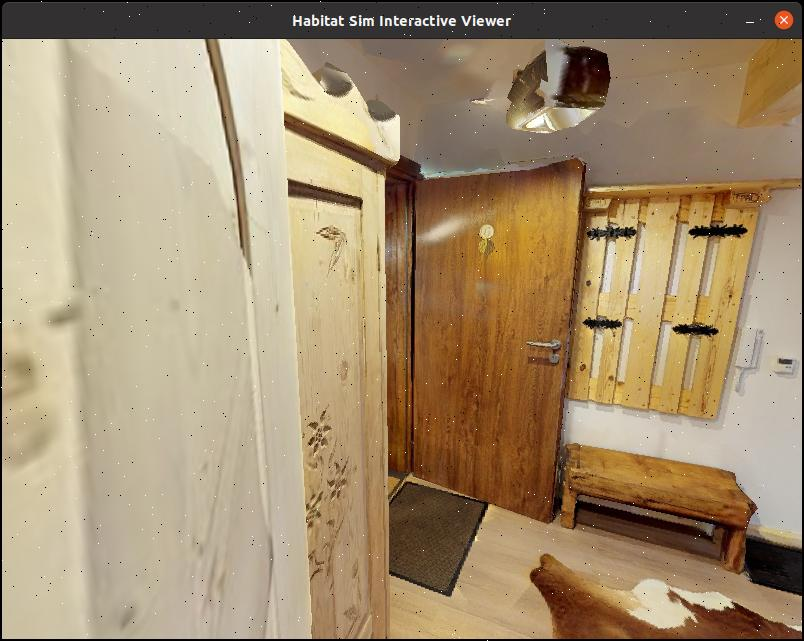door: (399, 157, 592, 513)
table: (556, 425, 757, 580)
